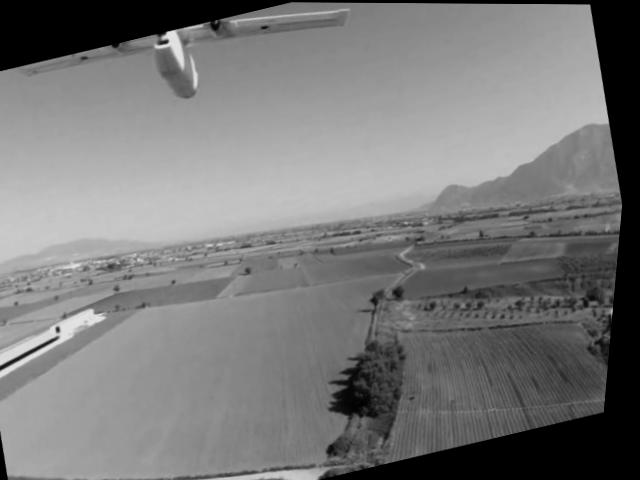hedef: (0, 0, 374, 156)
